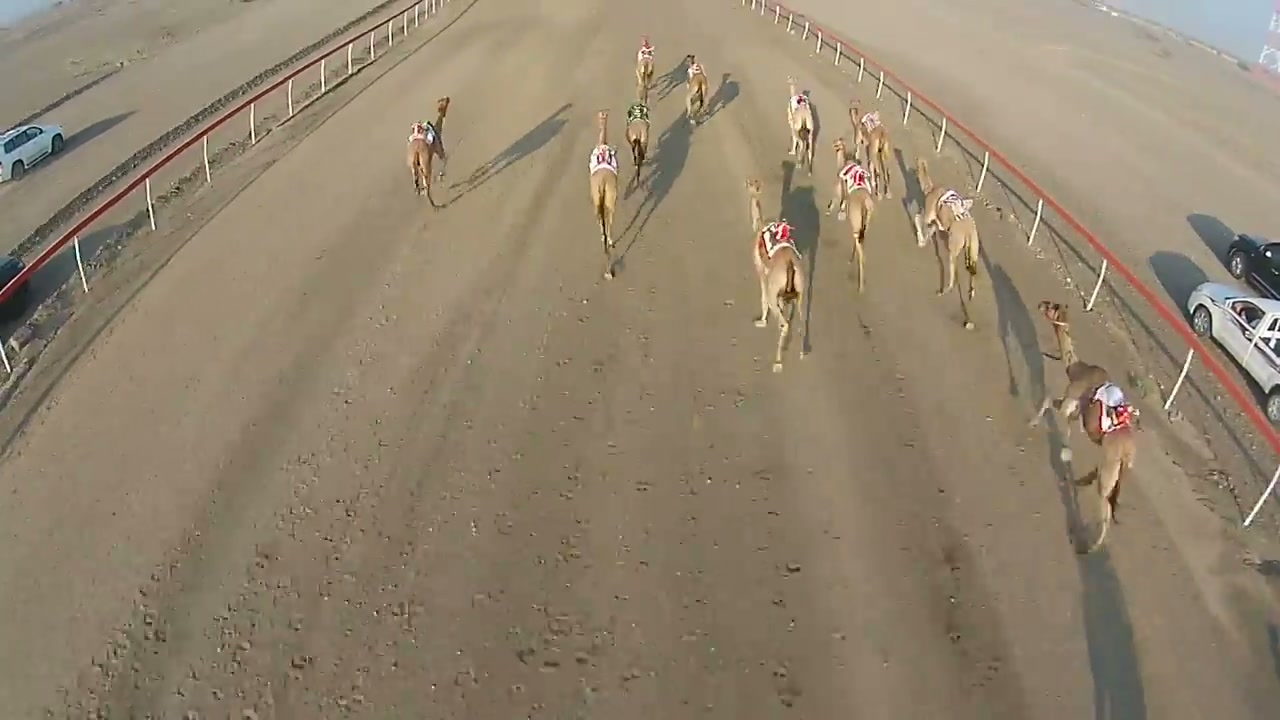animal_foot_print: (148, 254, 829, 713)
